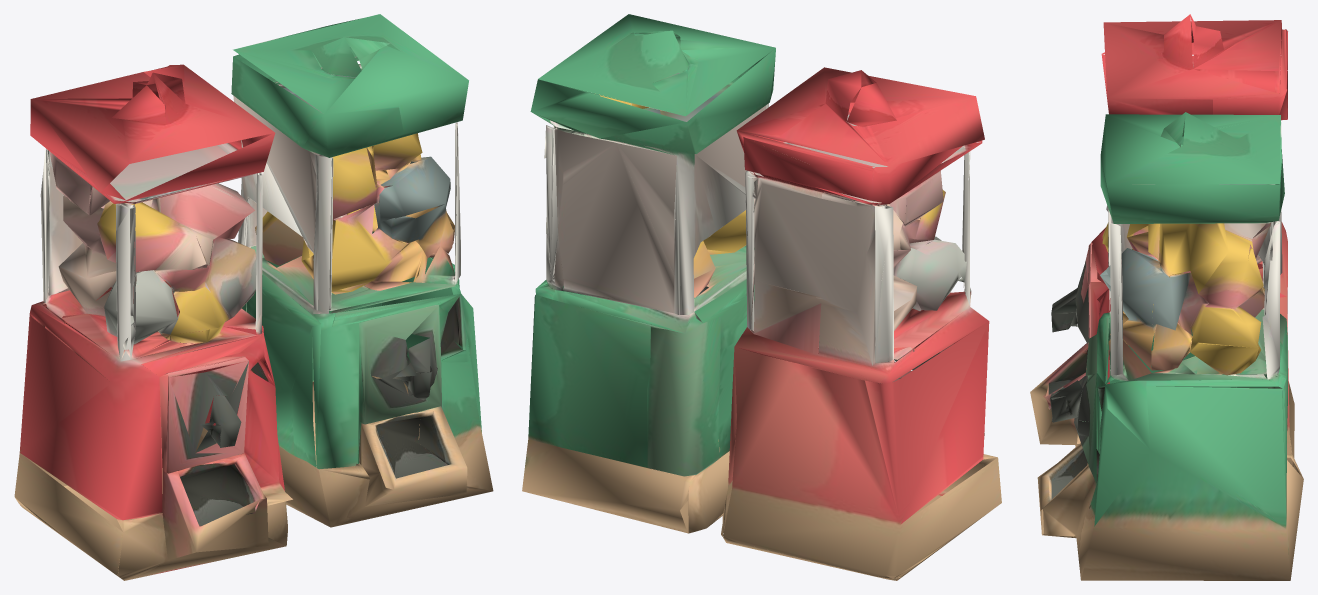
The picture shows the model from 3 angles, left to right: view 1: azimuth 30°, elevation 25°; view 2: azimuth 150°, elevation 25°; view 3: azimuth 270°, elevation 25°; orthographic projection. The views are drawn at different scales.
Parts seen in each view (by area): view 1: capsule; view 2: capsule; view 3: capsule.
Part boxes in pixels (<box>): capsule: <box>14,14,493,580</box>; capsule: <box>522,14,1001,580</box>; capsule: <box>1030,14,1303,580</box>.
Size of the model in its own units: 2.09 by 2.43 by 1.36.
Materials: 2 (2 with a texture image).
